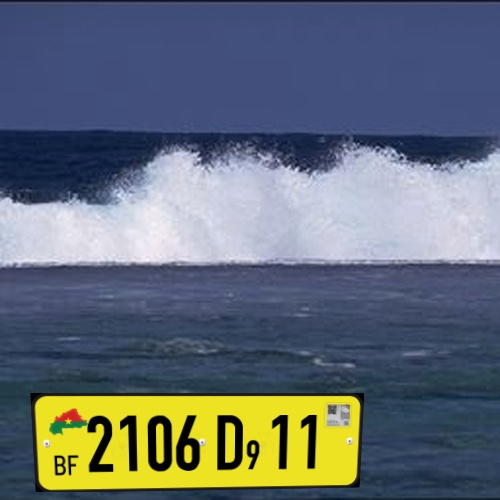plate: (22, 385, 392, 500)
